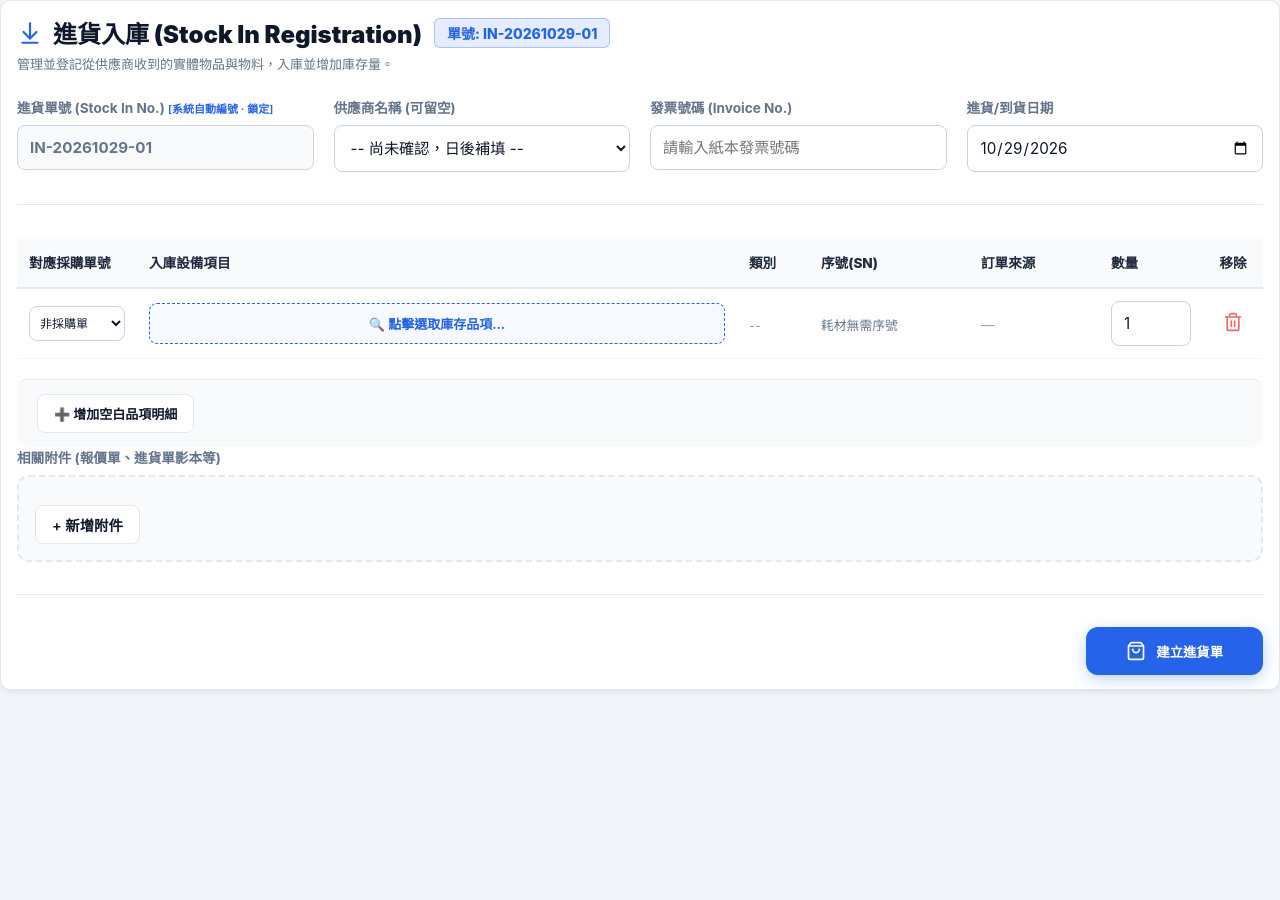
Test: 進貨單：快速建檔品項 › 收的是廠牌、類型、型號、規格，不是一個籠統的品項名稱
This screenshot has width=1280, height=900.
Click the button with test id "open-item-select-btn-1": [437, 324] box [149,303,725,344]
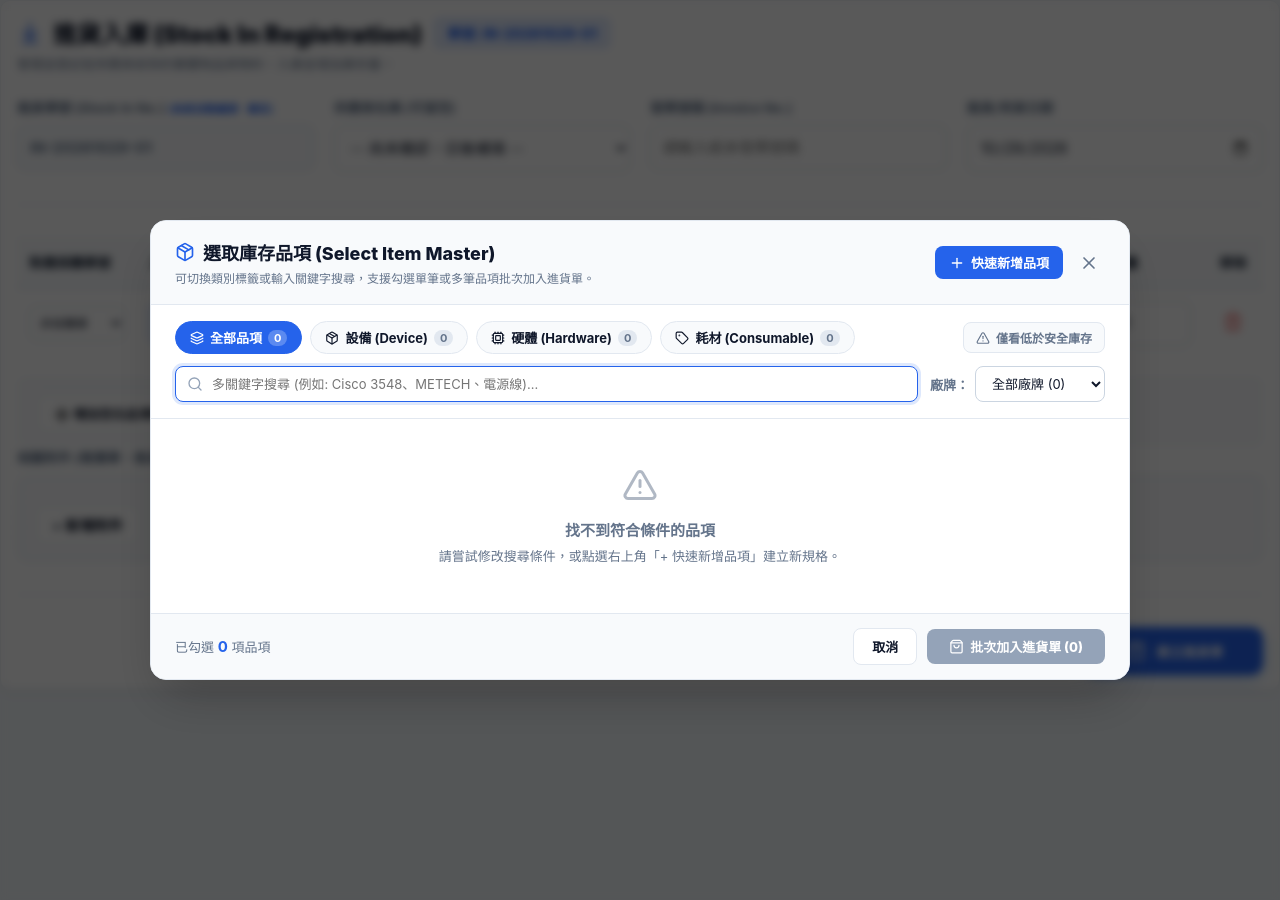
Click the button "快速新增品項": [999, 262] box [935,246,1063,279]
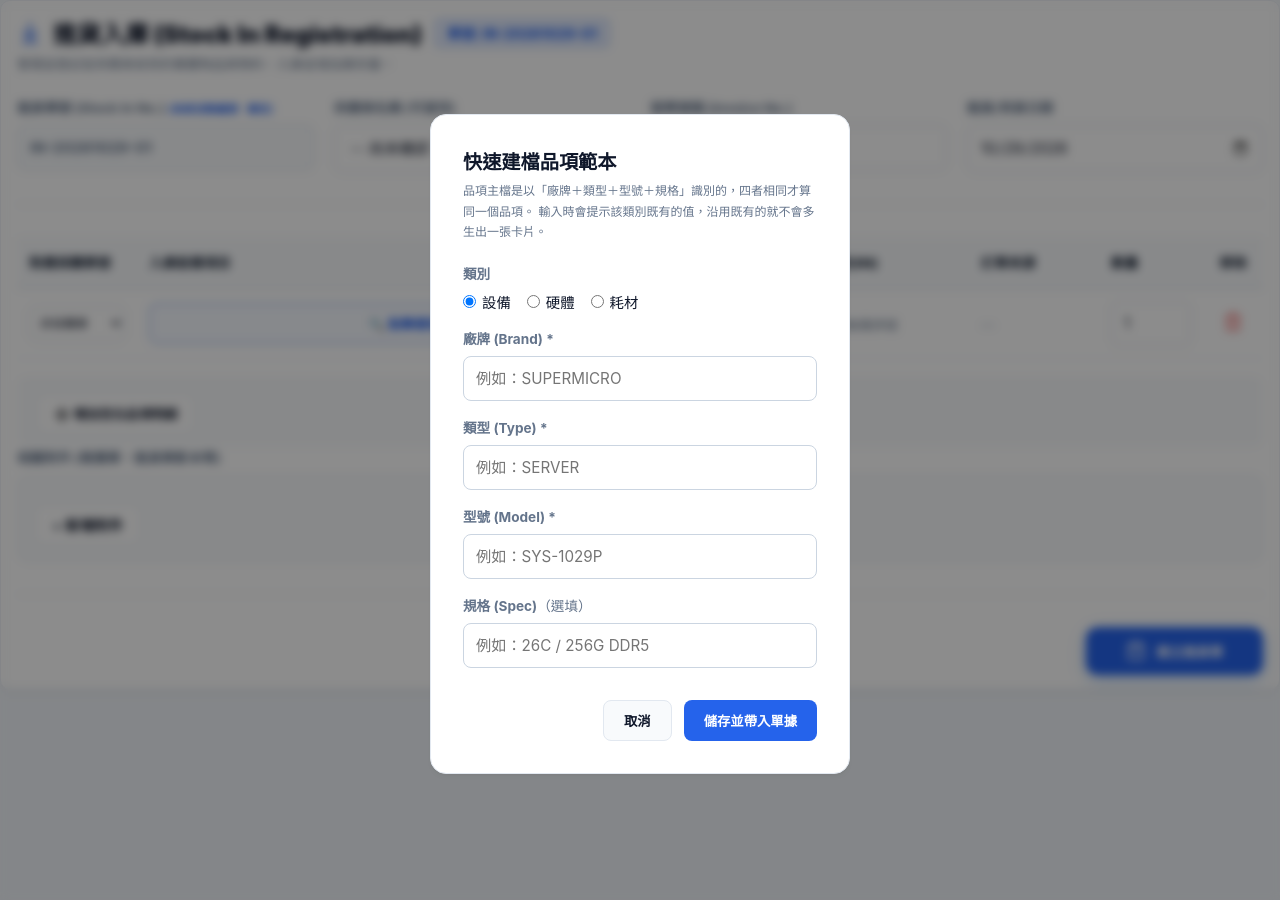
expect the text "廠牌 (Brand) *" is shown: met, box [463,331,554,347]
expect the text "類型 (Type) *" is shown: met, box [463,420,548,436]
expect the text "型號 (Model) *" is shown: met, box [463,509,556,525]
